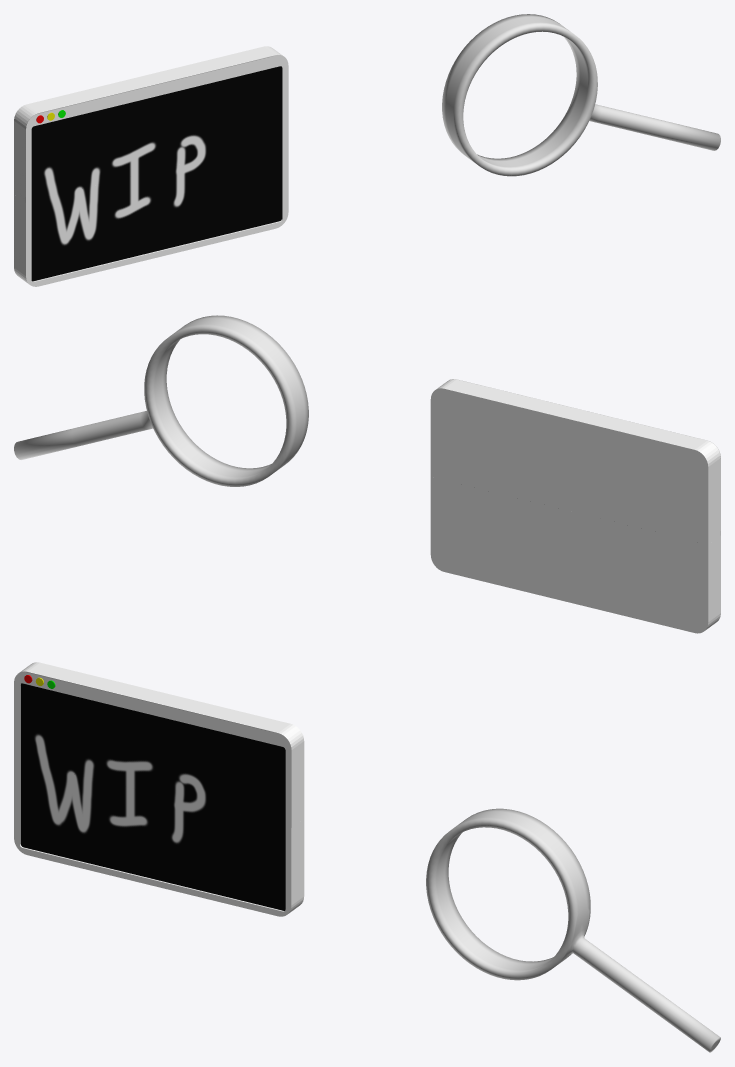
3 views of the same model, one above another, from view 1: azimuth 30°, elevation 25°; view 2: azimuth 150°, elevation 25°; view 3: azimuth 330°, elevation 25° (orthographic). The views are drawn at different scales.
Parts seen in each view (by area): view 1: ScreenBottom, ScreenTop, MagnifyingGlass, Top, Bottom; view 2: Top, Bottom, MagnifyingGlass; view 3: ScreenBottom, ScreenTop, MagnifyingGlass, Top, Bottom.
Part boxes in pixels (x1,y1,x2,y2): ScreenBottom: (31,140,281,281); ScreenTop: (31,66,281,200); MagnifyingGlass: (442,14,720,176); Top: (14,46,288,202); Bottom: (14,139,288,286); Top: (430,379,720,544); Bottom: (430,477,720,633); MagnifyingGlass: (14,315,308,486); ScreenBottom: (20,761,285,910); ScreenTop: (20,683,285,825); MagnifyingGlass: (426,808,720,1052); Top: (14,662,304,827); Bottom: (14,760,304,916).
Bounding box in the file's own units: 8.21 × 2.18 × 0.6841.
Materials: 4 (2 with a texture image).
